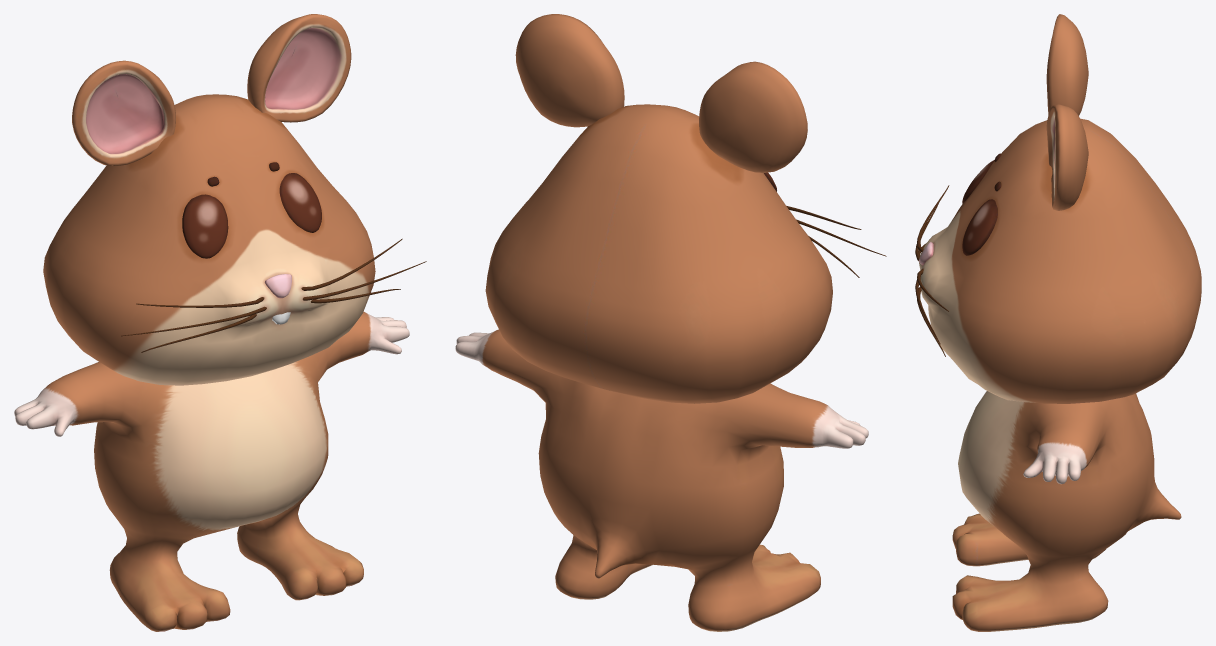
File: Chibi Hamster 3D Character.glb
3 renders of one model, left to right at view 1: azimuth 30°, elevation 25°; view 2: azimuth 150°, elevation 25°; view 3: azimuth 270°, elevation 25°, orthographic. The views are drawn at different scales.
Visible parts, largest first — view 1: Hamster; view 2: Hamster; view 3: Hamster.
Part boxes in pixels (x1,y1,x2,y2): Hamster: [14, 14, 426, 631]; Hamster: [455, 14, 886, 631]; Hamster: [915, 14, 1201, 631].
Bounding box in the file's own units: 2.47 × 3.26 × 1.62.
Materials: 1 (1 with a texture image).
